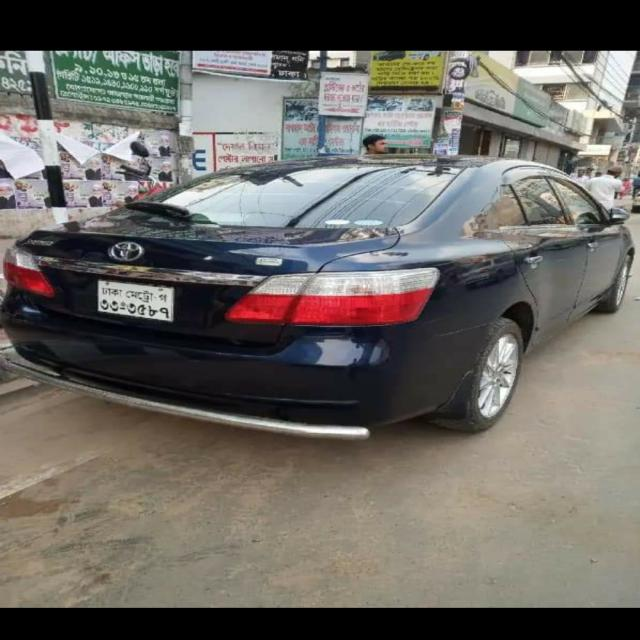blue: (0, 139, 640, 440)
